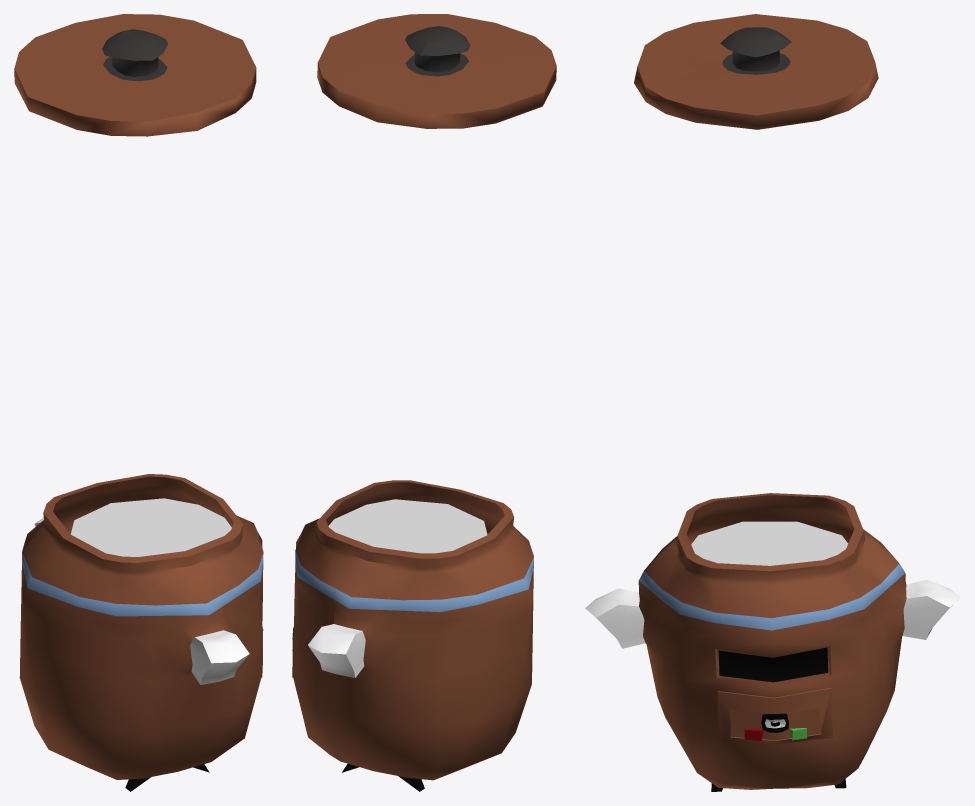
The model's file is YesRiceCooker.fbx.
3 renders of one model, left to right at view 1: azimuth 30°, elevation 25°; view 2: azimuth 150°, elevation 25°; view 3: azimuth 270°, elevation 25°, orthographic.
Parts seen in each view (by area): view 1: Rice cooker Body Lined, Lid, Circle; view 2: Rice cooker Body Lined, Lid, Circle; view 3: Rice cooker Body Lined, Lid, Circle.
Part boxes in pixels (x1=…): Rice cooker Body Lined: x1=19, y1=474, x2=263, y2=791; Lid: x1=14, y1=14, x2=256, y2=136; Circle: x1=71, y1=498, x2=231, y2=556; Rice cooker Body Lined: x1=292, y1=480, x2=533, y2=791; Lid: x1=317, y1=14, x2=556, y2=128; Circle: x1=328, y1=499, x2=487, y2=553; Rice cooker Body Lined: x1=585, y1=493, x2=960, y2=791; Lid: x1=634, y1=14, x2=878, y2=129; Circle: x1=691, y1=521, x2=848, y2=565.
Bounding box in the file's own units: 931 × 2678 × 1246.
